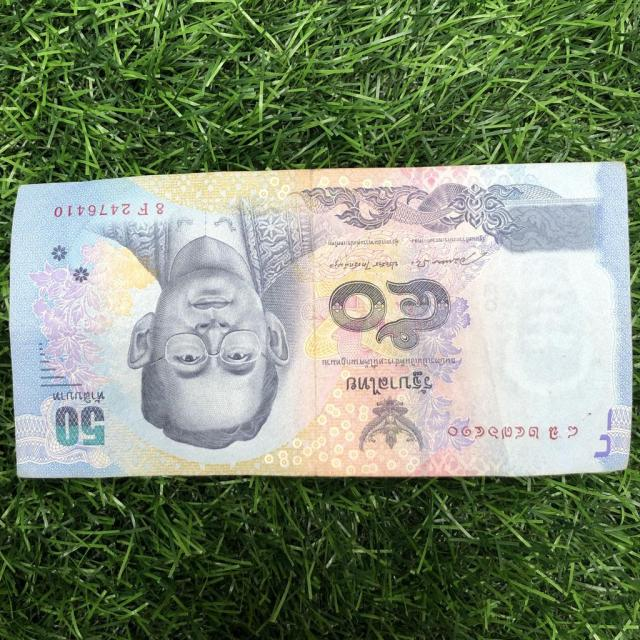THAI50: (11, 162, 631, 478)
